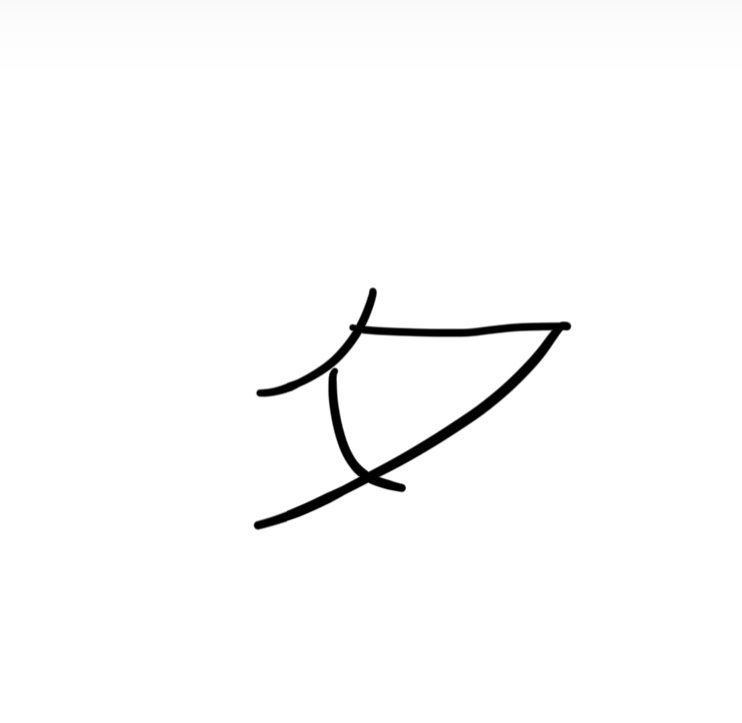ta: (222, 281, 587, 550)
